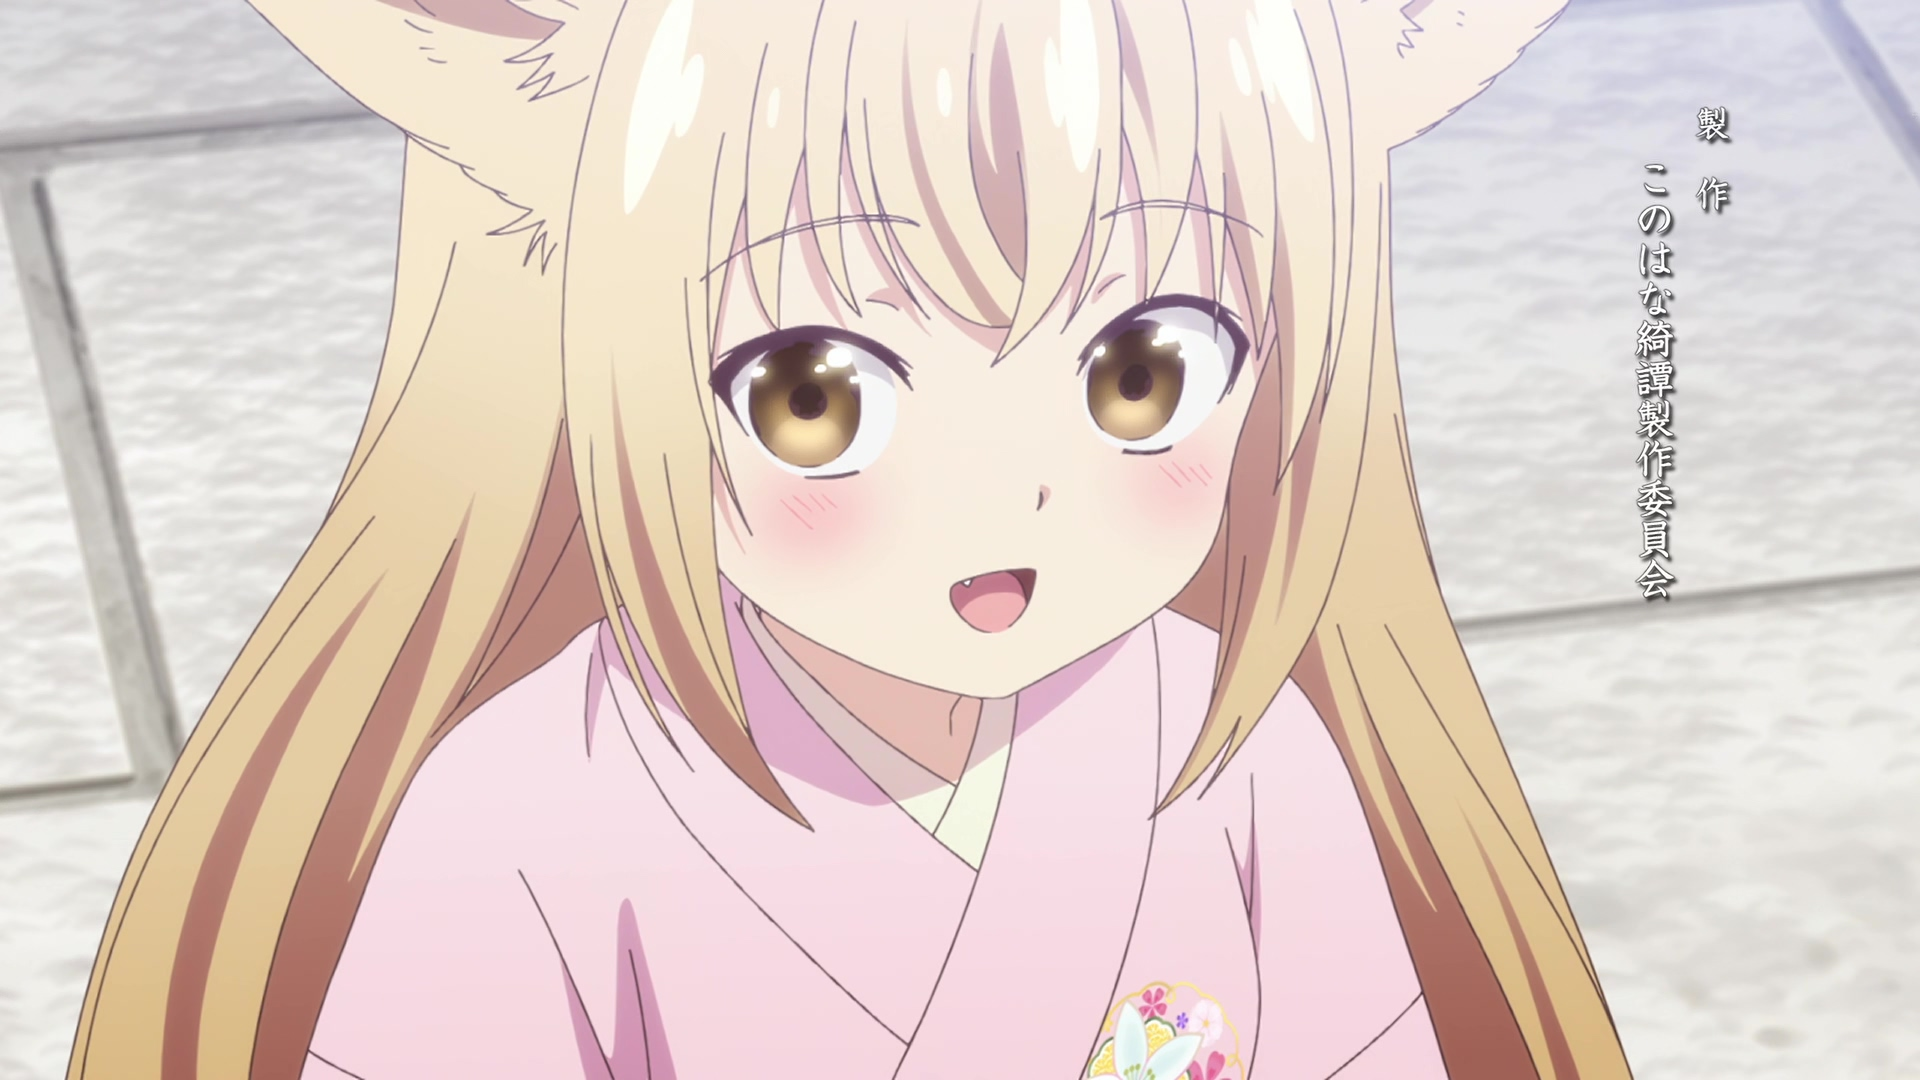柚: (63, 1, 1640, 1080)
